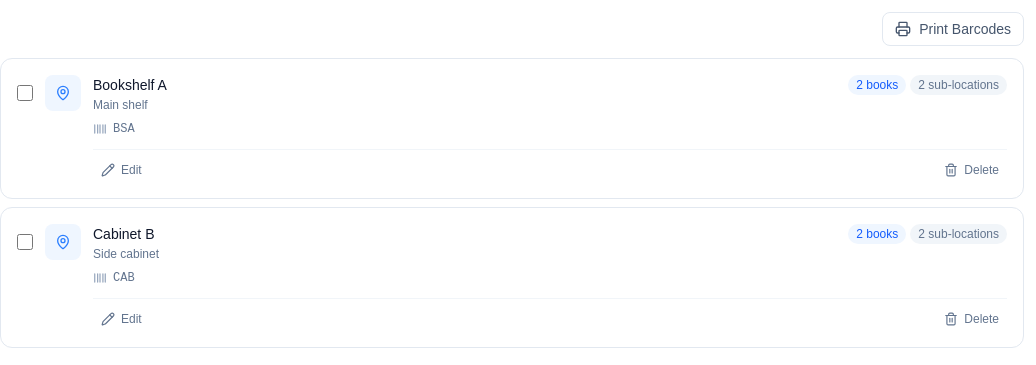
LocationsList — checkbox selection › decrements count when a checkbox is unticked
The width and height of the screenshot is (1036, 365).
Click the checkbox named "select bookshelf a" at (25, 93), box [17,85,33,101]
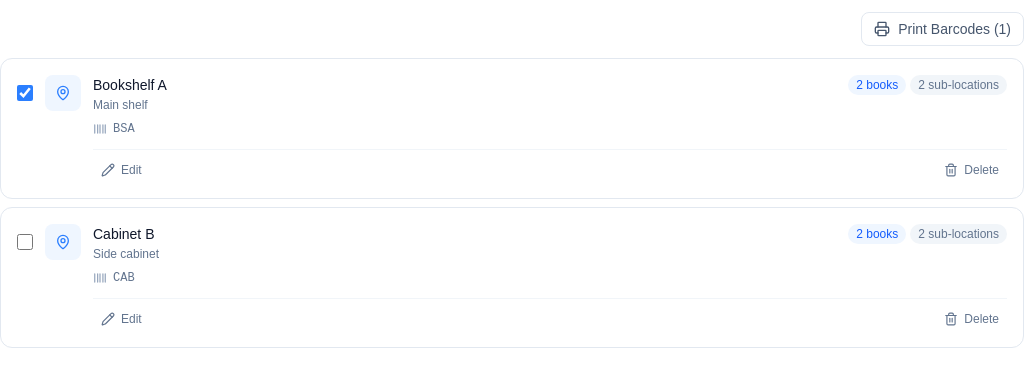
Click the checkbox named "select cabinet b" at (25, 242), box [17,234,33,250]
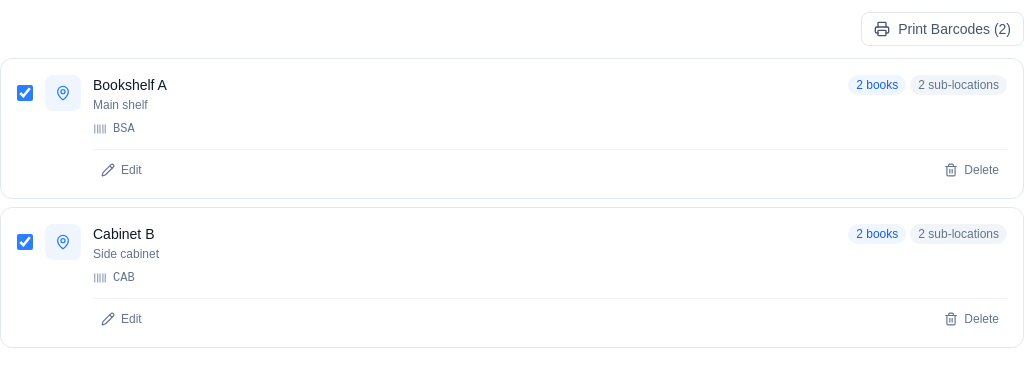
Click the checkbox named "select bookshelf a" at (25, 93), box [17,85,33,101]
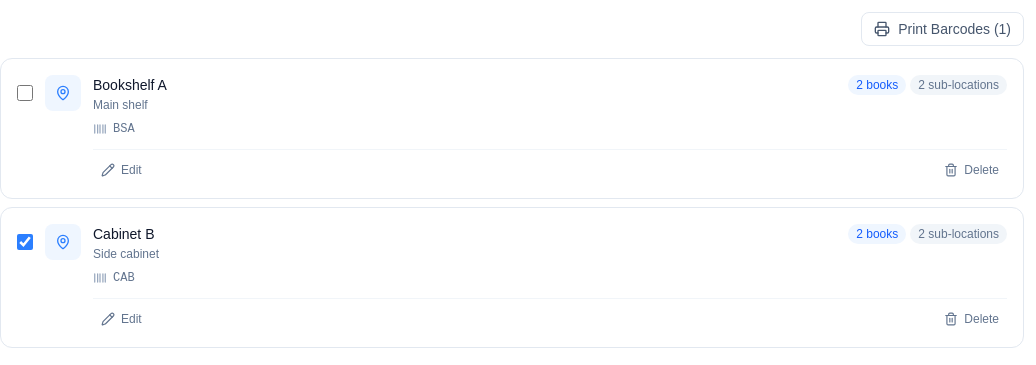
expect the button "Print Barcodes (1)" is shown: met, box [861,12,1024,46]
